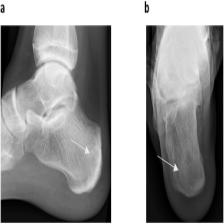hairline-fracture: (1, 23, 111, 220), (147, 26, 224, 224)
